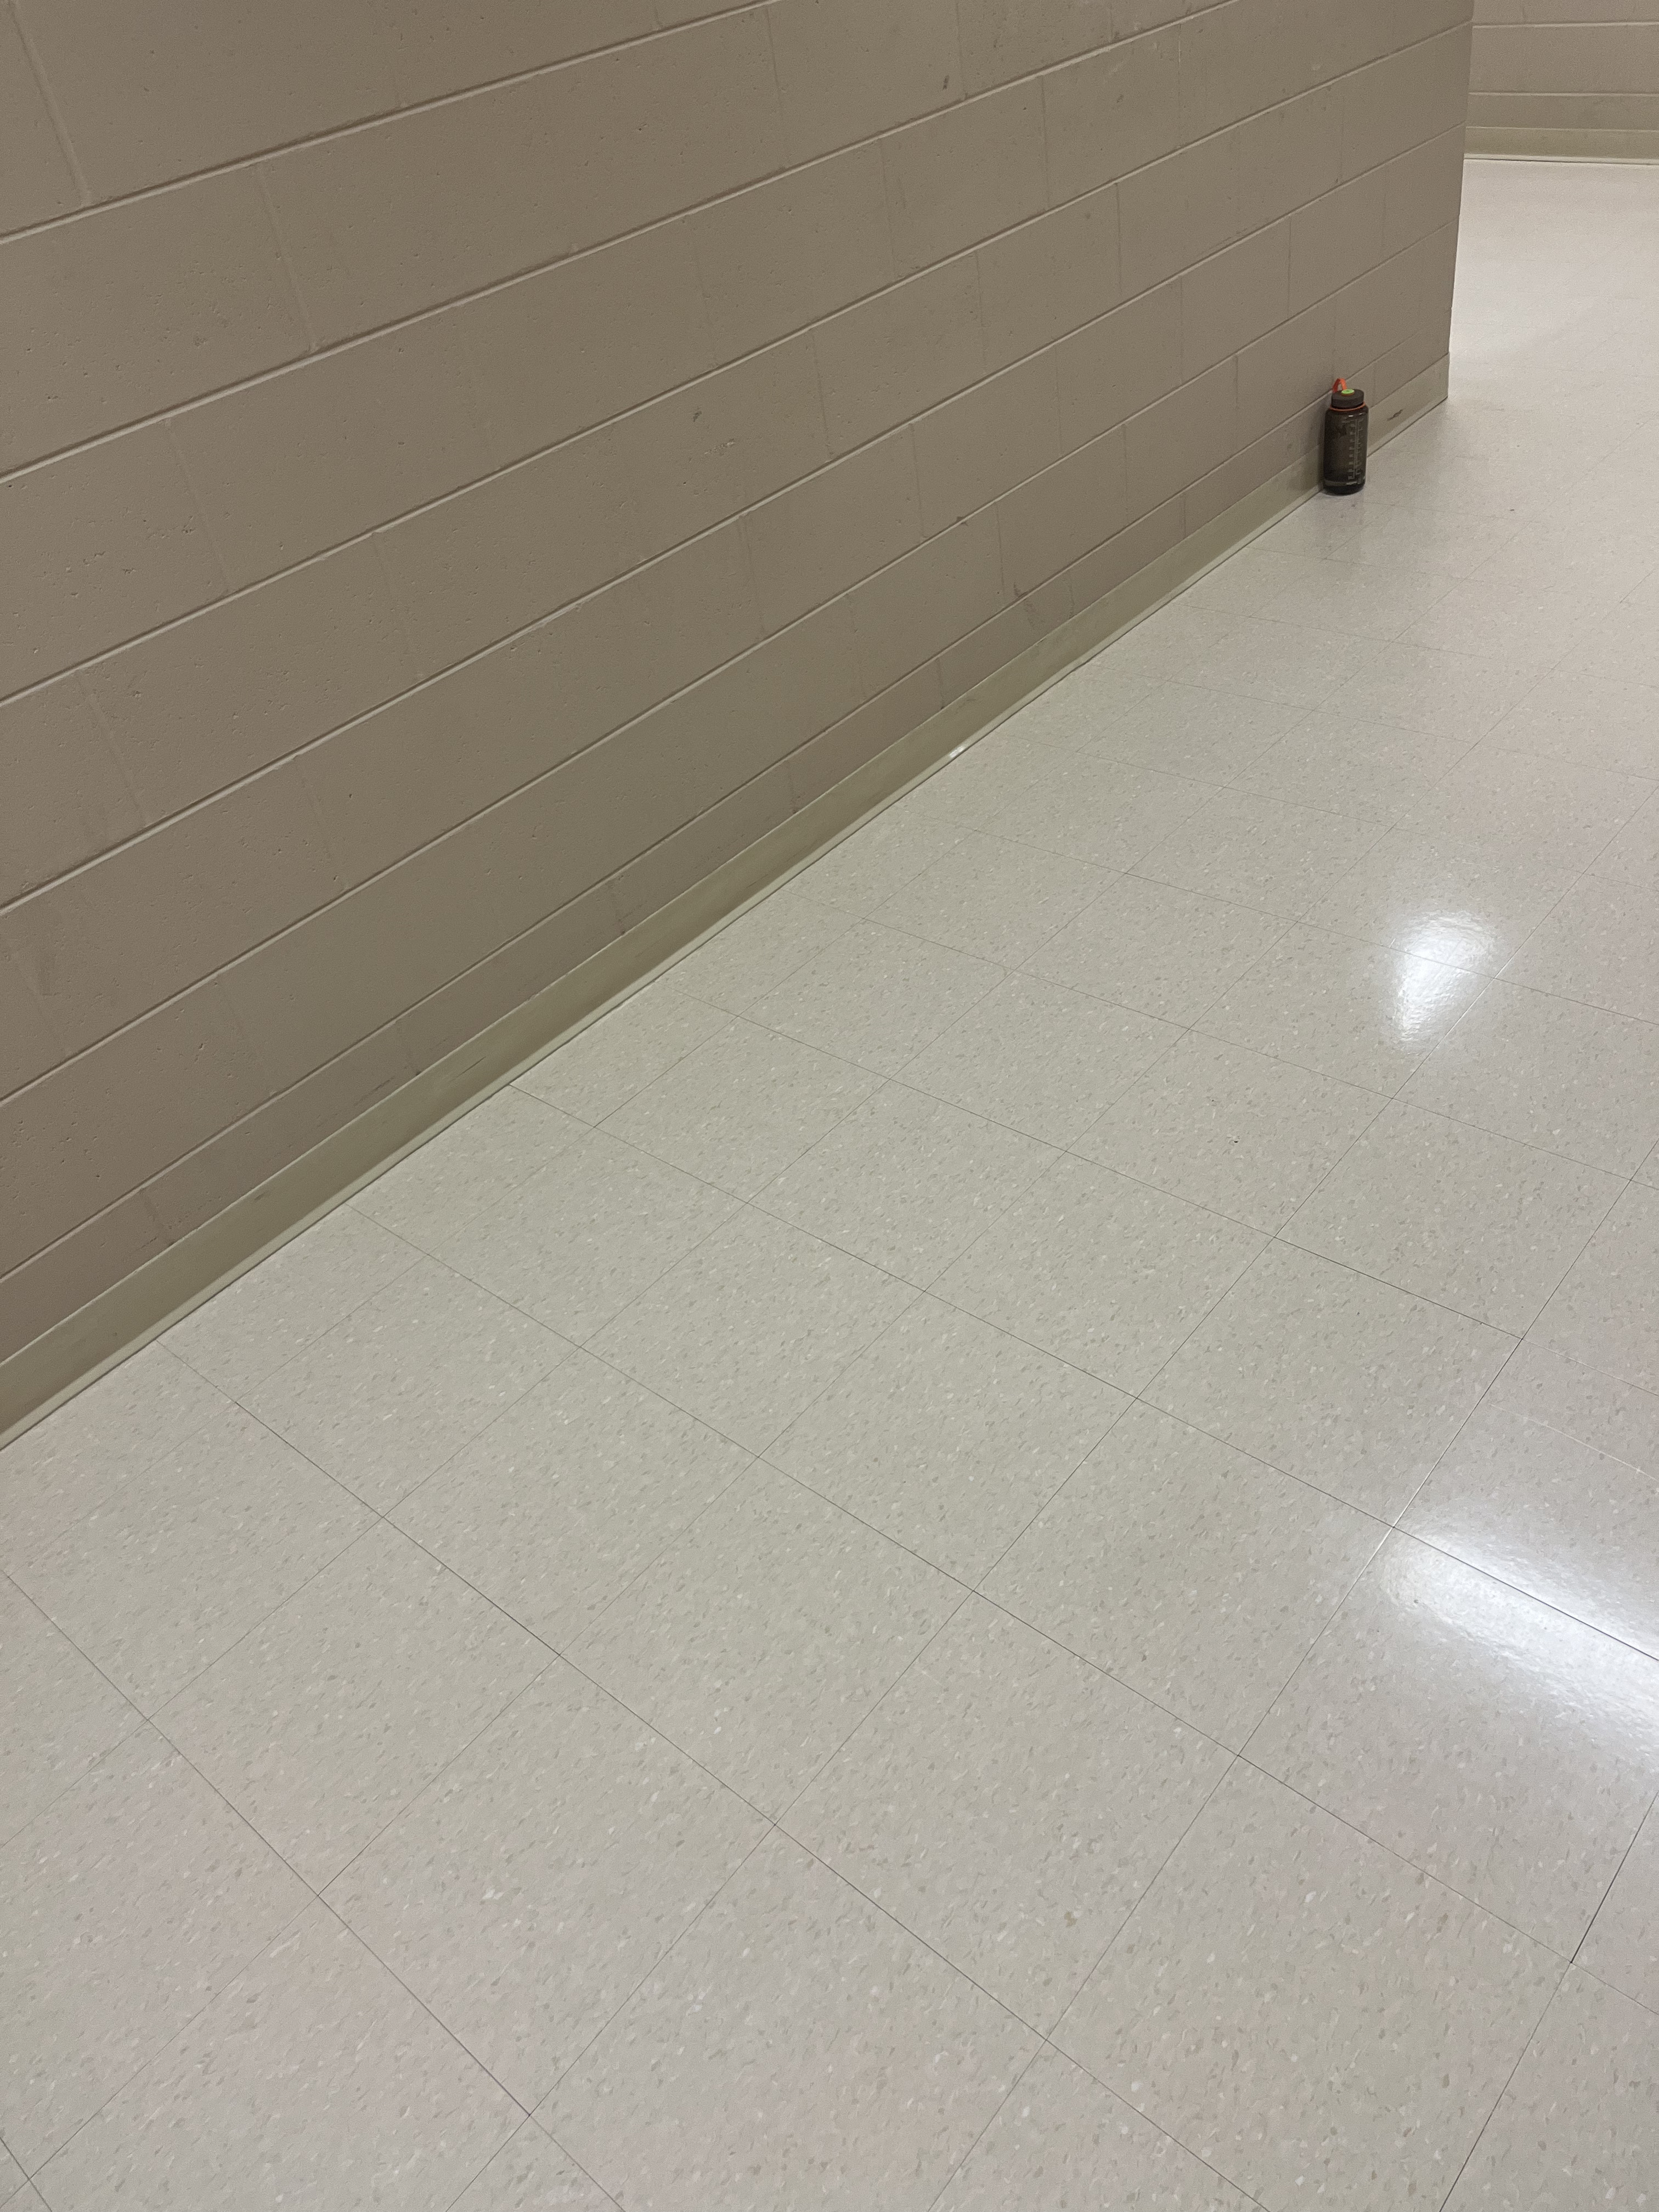bottle: (1321, 364, 1371, 502)
